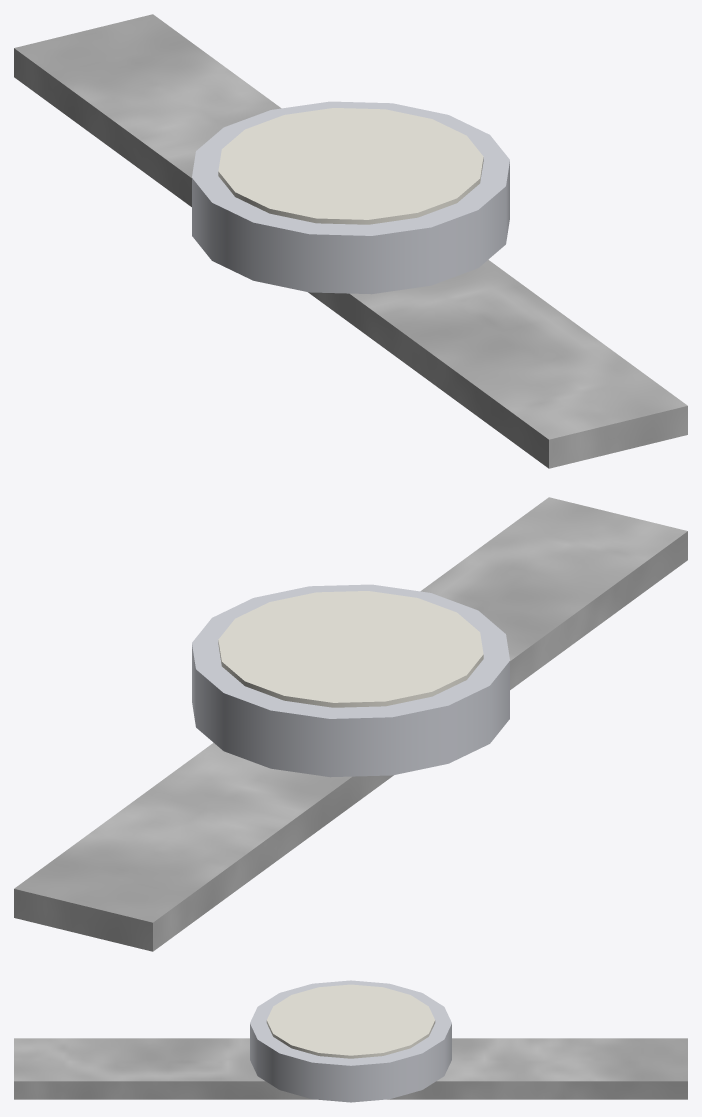
The model's file is loot_watch.obj.
3 renders of one model, top to bottom at view 1: azimuth 30°, elevation 25°; view 2: azimuth 150°, elevation 25°; view 3: azimuth 270°, elevation 25°, orthographic. The views are drawn at different scales.
Parts seen in each view (by area): view 1: loot_watch; view 2: loot_watch; view 3: loot_watch.
Part boxes in pixels (x1,y1,x2,y2): loot_watch: (14,14,687,468); loot_watch: (14,497,687,951); loot_watch: (14,980,687,1102).
Size of the model in its own units: 0.06 by 0.019 by 0.2.
Materials: 3 (1 with a texture image).
